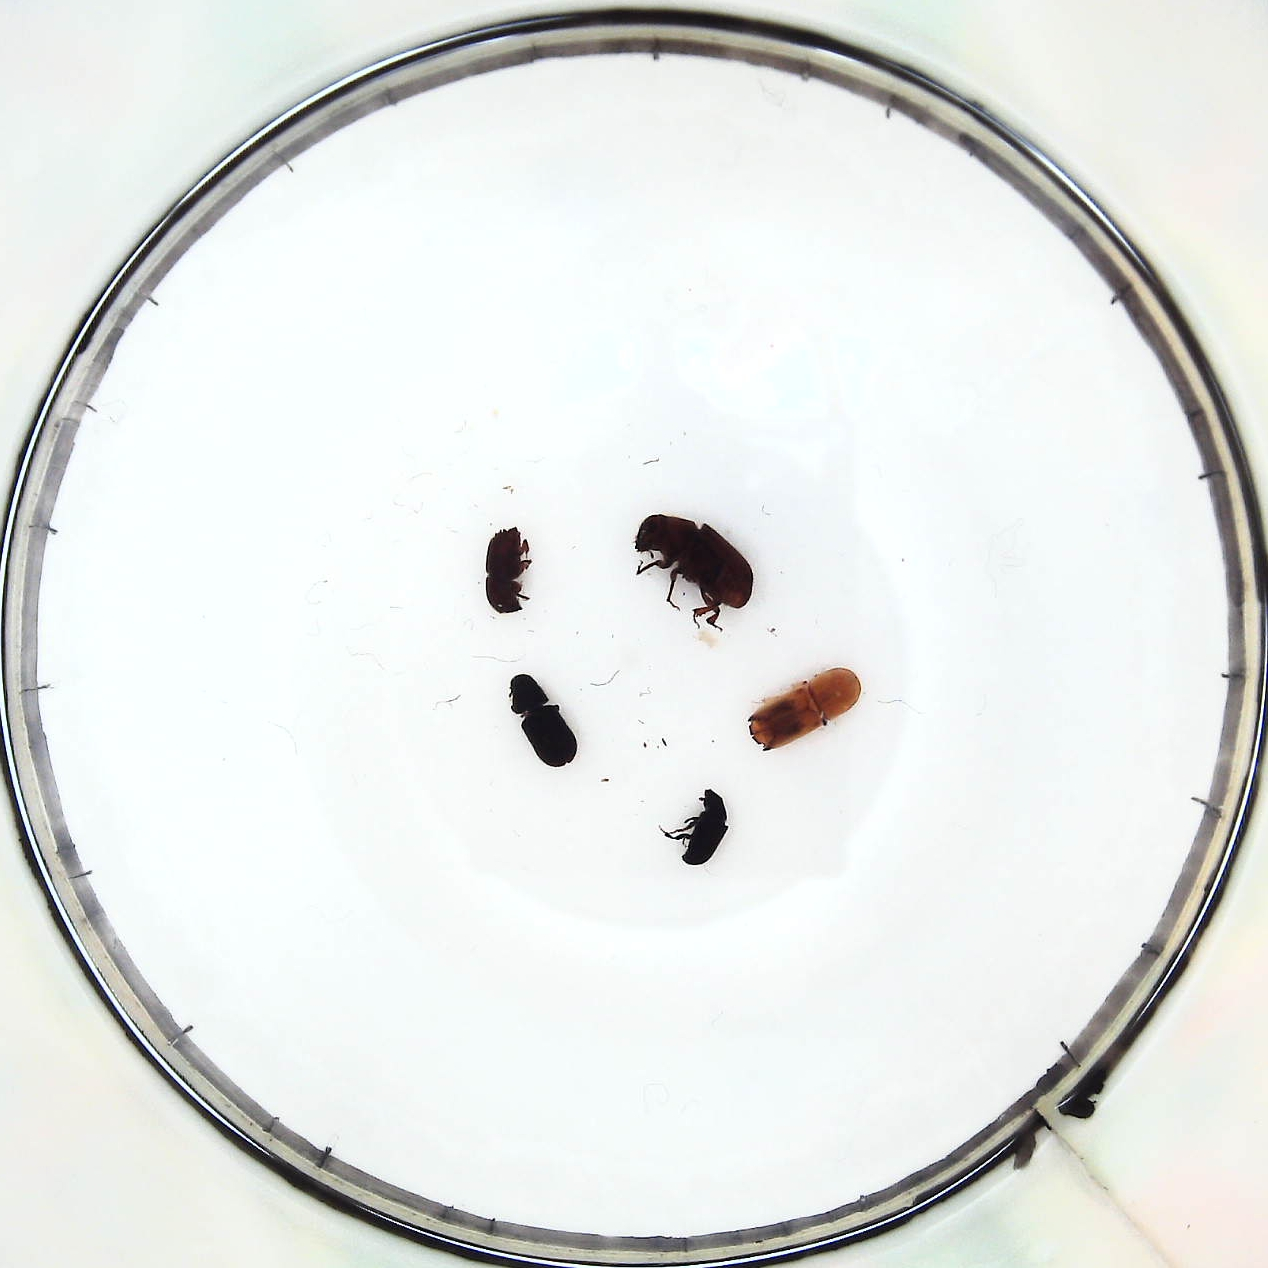Boerner: (749, 662, 862, 748)
Leconte: (637, 510, 752, 615)
Linnaeus: (487, 525, 529, 613)
armandi: (510, 670, 577, 768)
coleoptera: (685, 788, 725, 865)
